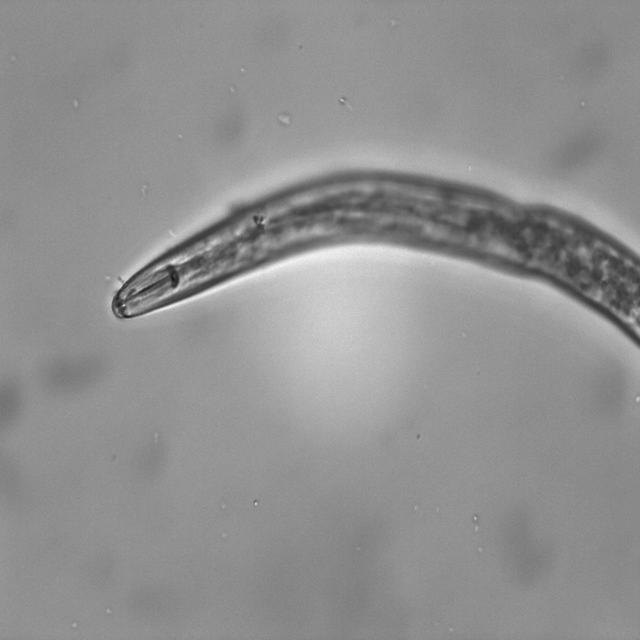Helicotylenchus: (109, 193, 277, 329)
